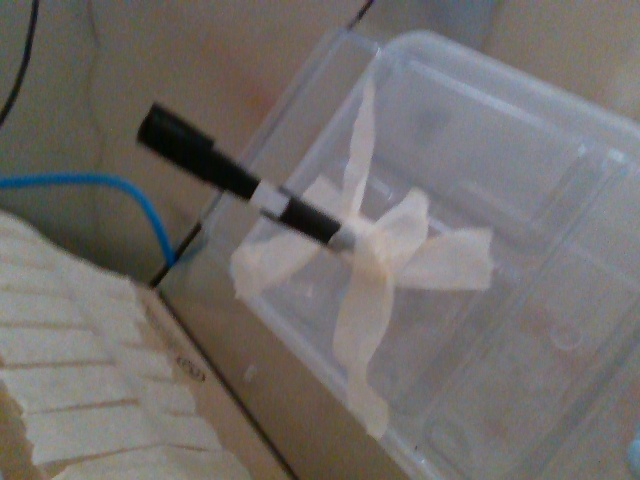test_strip: (133, 102, 289, 220)
